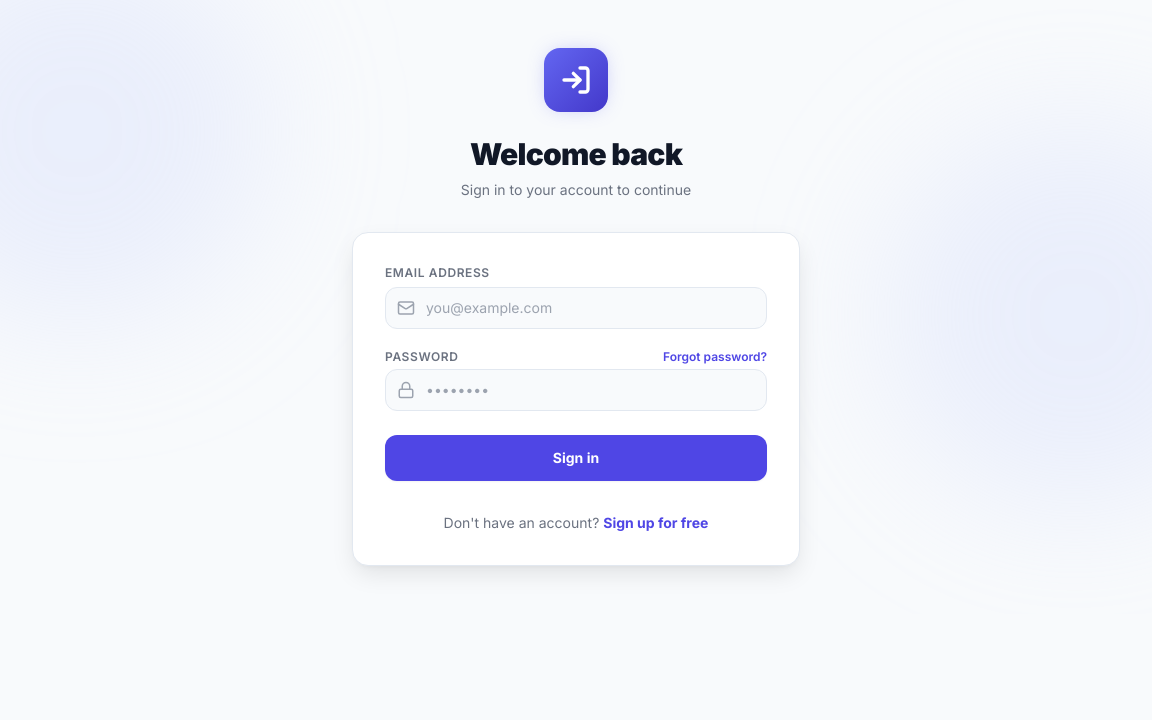
Scenario: LoginPage › displays error message on failed login
In the field labelled "Email address": (576, 308) [385,287,767,329], type "test@example.com"
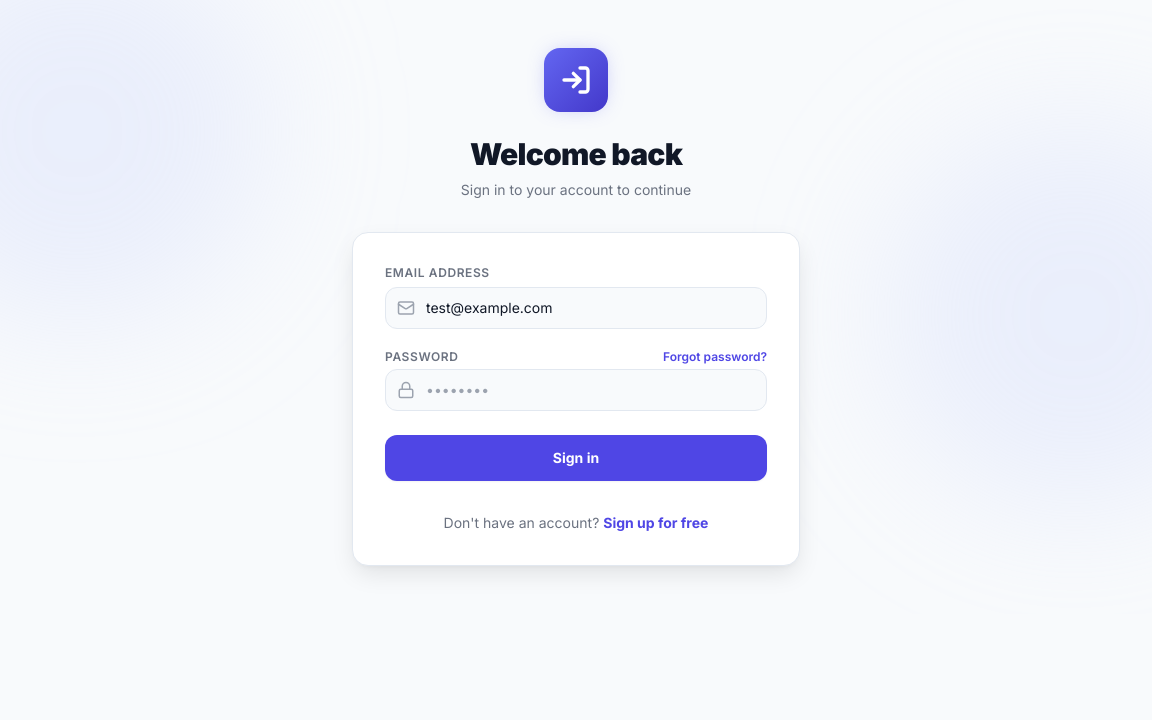
In the password field labelled "Password": (576, 390) [385,369,767,411], type "wrong-password"
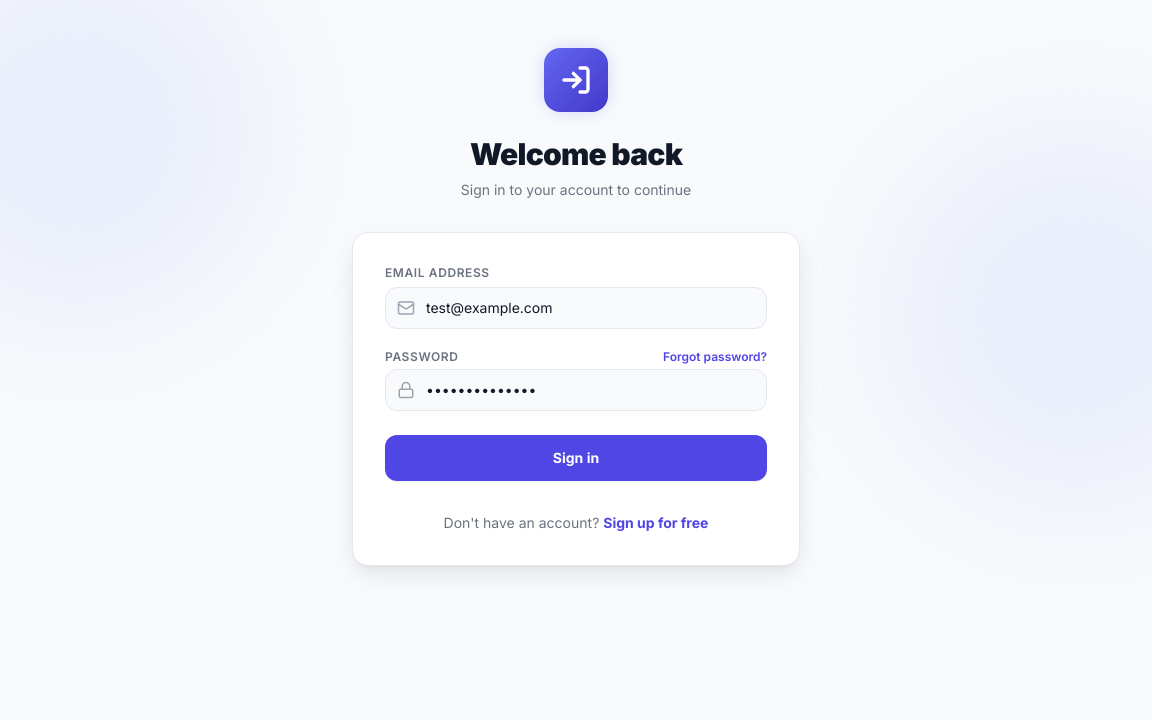
Click the button "Sign in": (576, 458) [385,435,767,481]
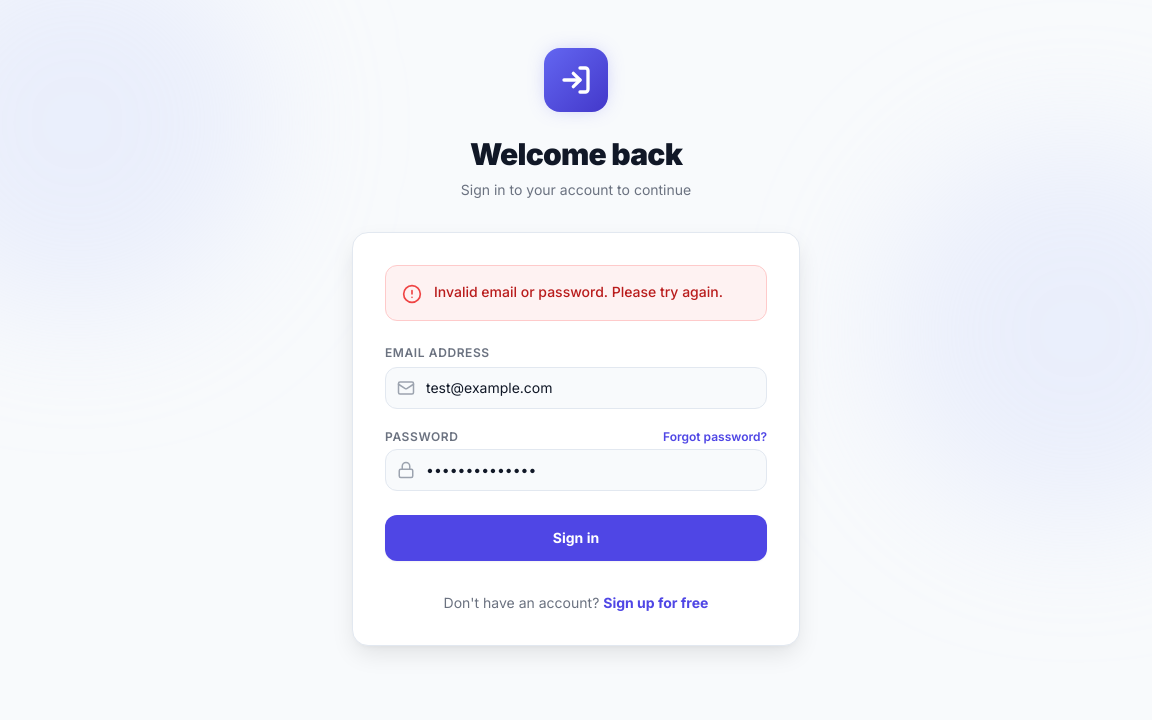
Check: the text "Invalid email or password. Please try again." is shown, box [434,282,750,302]
